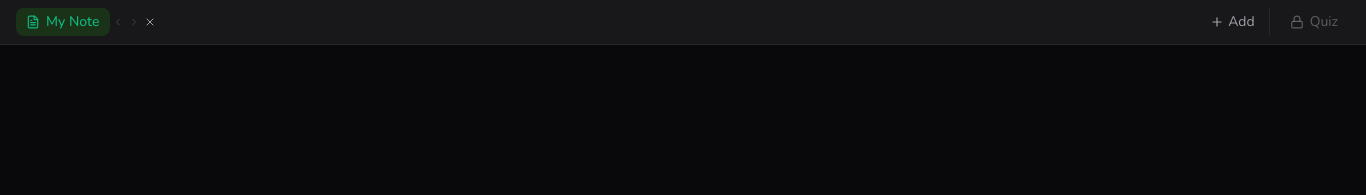
Test: LearningResourceNav › Add resource menu › toggles menu closed when Add button is clicked again
Click the button "Add" at (1232, 22), box [1200,8,1265,36]
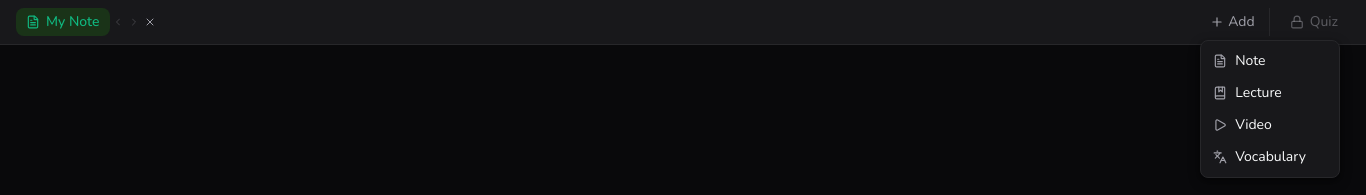
Expected: the button "Lecture" is shown, [1201,77,1339,109]
Click the button "Add" at (1232, 22), box [1200,8,1265,36]
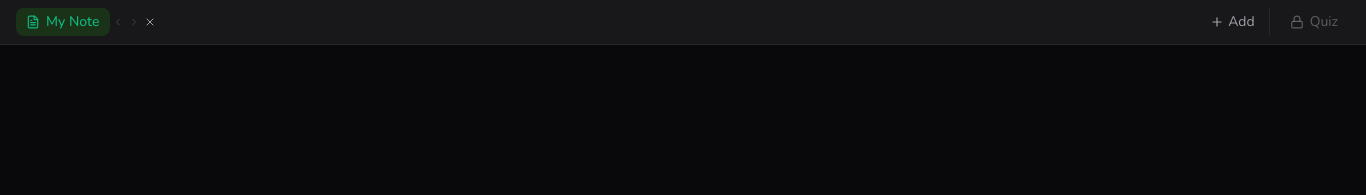
Expected: the button "Lecture" is gone
